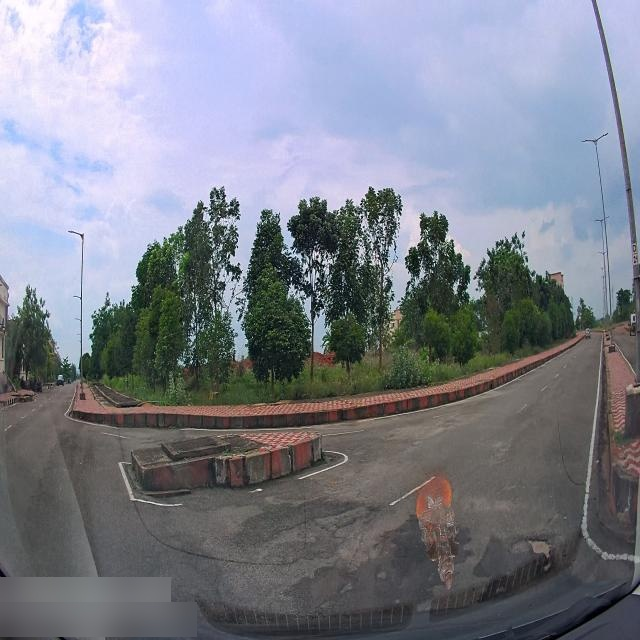pothole: (515, 511, 560, 575), (374, 566, 392, 582)
